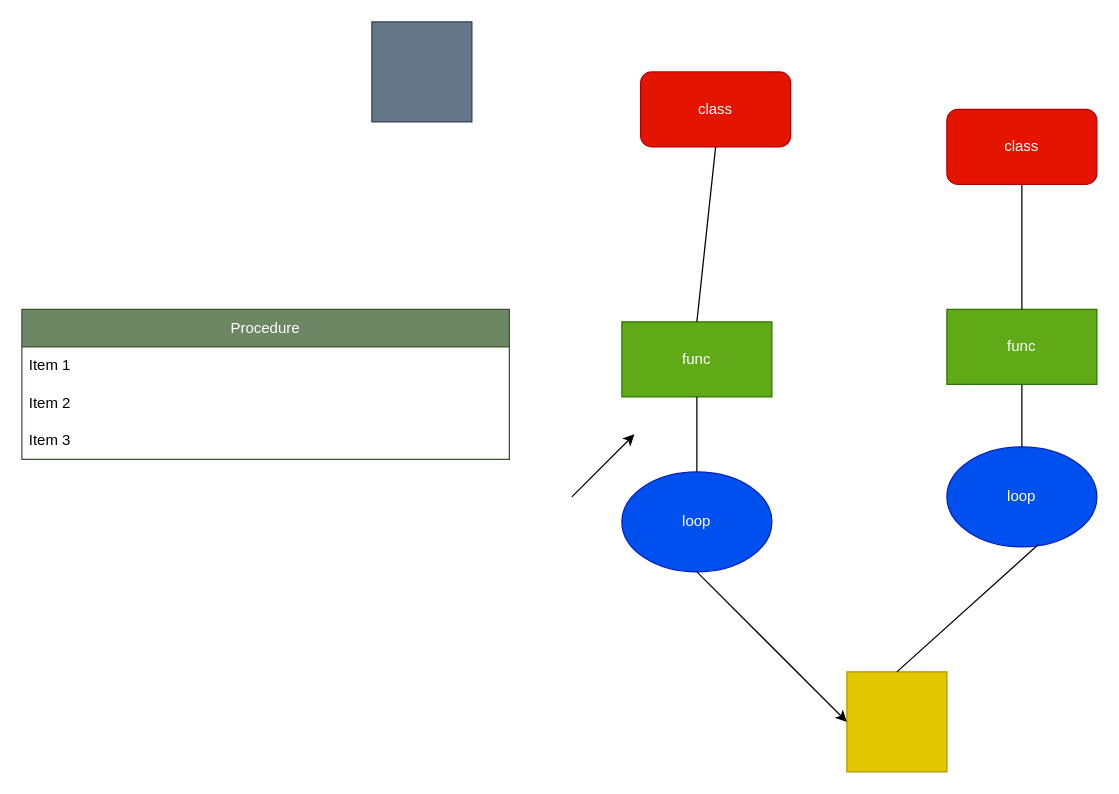
The diagram is 1119 pixels wide and 794 high, and some of its shapes have lost their labels. The centre of each missing label's shape, as x and y in pixels:
"display" goes at point (896, 721).
"prompt" goes at point (421, 71).
